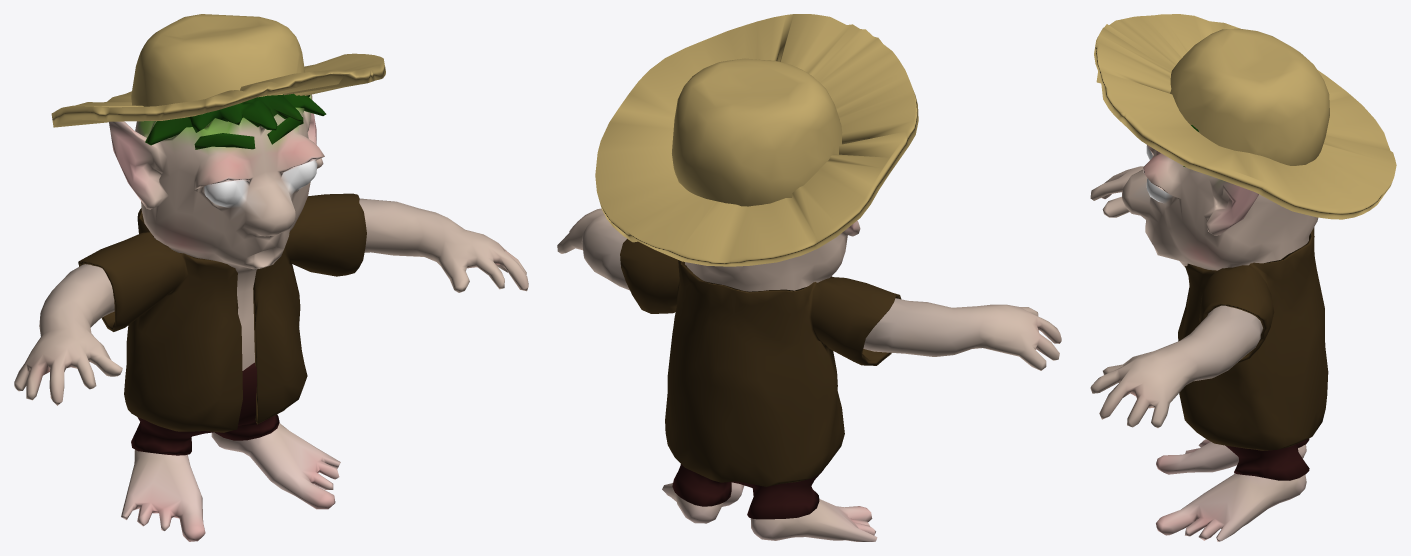
The model's file is Enemy_var.2.fbx.
3 views of the same model, side by side, from view 1: azimuth 30°, elevation 25°; view 2: azimuth 150°, elevation 25°; view 3: azimuth 270°, elevation 25° (orthographic). The views are drawn at different scales.
Parts seen in each view (by area): view 1: Extract14, Extract4, PM3D_Sphere3D1, Extract1; view 2: PM3D_Sphere3D1, Extract4, Extract14, Extract1; view 3: PM3D_Sphere3D1, Extract14, Extract4, Extract1.
Boxes of the visible parts, x1,y1,x2,y2 form: Extract14: (14,93,528,541); Extract4: (78,193,366,432); PM3D_Sphere3D1: (51,14,385,127); Extract1: (131,362,279,455); PM3D_Sphere3D1: (595,14,918,266); Extract4: (620,239,901,486); Extract14: (557,208,1061,541); Extract1: (672,464,824,519); PM3D_Sphere3D1: (1094,14,1396,219); Extract14: (1090,125,1318,541); Extract4: (1178,227,1328,450); Extract1: (1225,438,1309,480).
Size of the model in its own units: 6.55 by 5.98 by 3.6.
